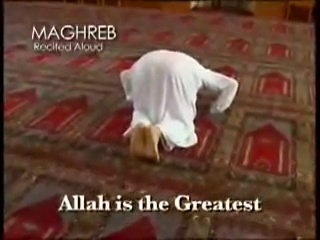sujud: (119, 50, 241, 162)
